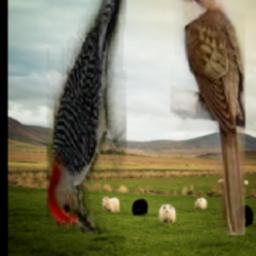Cuckoo: (171, 0, 246, 235)
Woodpecker: (47, 0, 127, 234)
